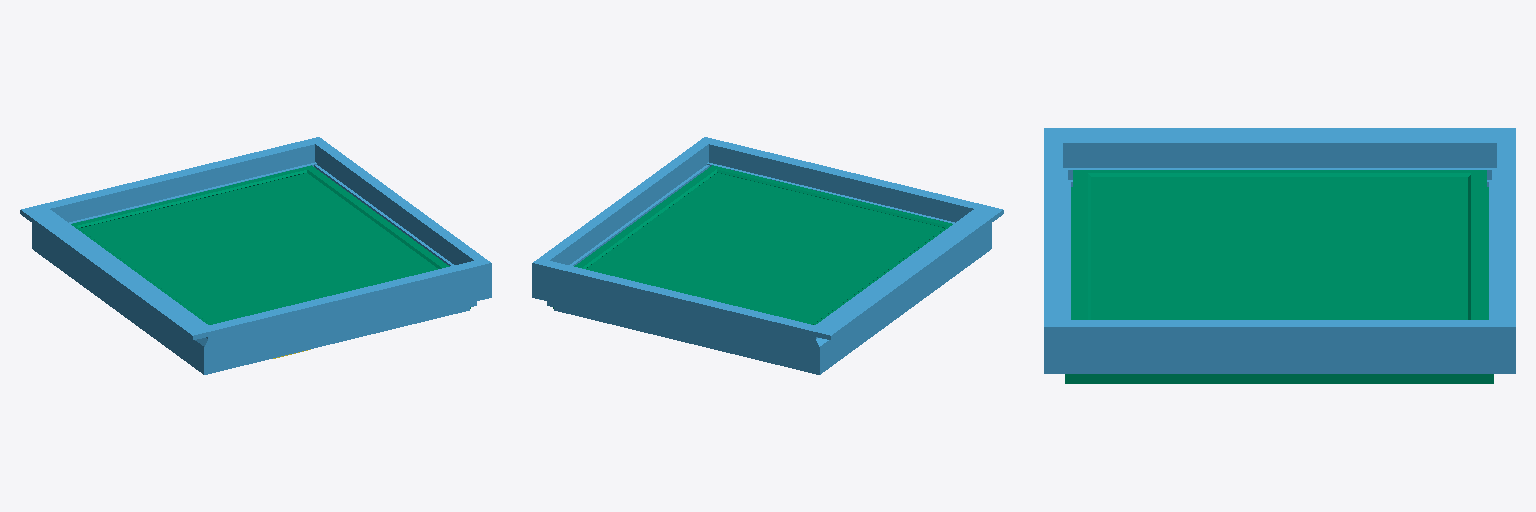
The robot description file, URDF, robot "window":
<?xml version="1.0" ?>
<robot name="window">
    <mujoco>
        <compiler meshdir="texture_stl" balanceinertia="true" discardvisual="false"/>
    </mujoco>
    <link name="base"/>
    <link name="link_0">
       <visual name="out-frame">
          <origin xyz="0 0 0"/>
          <geometry>
             <mesh filename="texture_stl/frame.stl" scale="0.5 0.5 0.5"/>
          </geometry>
       </visual>
       <collision>
          <origin xyz="0 0 0"/>
          <geometry>
             <mesh filename="texture_stl/frame.stl" scale="0.5 0.5 0.5"/>
          </geometry>
       </collision>
    </link>
    <joint name="joint_0" type="fixed">
       <origin rpy="1.570796326794897 0 -1.570796326794897" xyz="0 0 0"/>
       <child link="link_0"/>
       <parent link="base"/>
    </joint>
    <link name="link_1">
       <visual name="surf-board">
          <origin xyz="0.4266382184276609 -0.3915905962527546 0"/>
          <geometry>
             <mesh filename="texture_stl/board.stl" scale="0.5 0.5 0.5"/>
          </geometry>
       </visual>
       <collision>
          <origin xyz="0.4266382184276609 -0.3915905962527546 0"/>
          <geometry>
             <mesh filename="texture_stl/board.stl" scale="0.5 0.5 0.5"/>
          </geometry>
       </collision>
    </link>
    <joint name="joint_1" type="revolute">
       <origin xyz="-0.4266382184276609 0.3915905962527546 0"/>
       <axis xyz="0 -1 0"/>
       <child link="link_1"/>
       <parent link="link_0"/>
       <limit lower="0" upper="1.5079644737231006"/>
    </joint>
    <link name="link_2">
       <visual name="handle">
          <origin xyz="0 0 0"/>
          <geometry>
             <mesh filename="texture_stl/9969523.stl" scale="1.7123141347874917 1.7123141347874917 1.7123141347874917"/>
          </geometry>
       </visual>
       <collision>
          <origin xyz="0 0 0"/>
          <geometry>
             <mesh filename="texture_stl/9969523.stl" scale="1.7123141347874917 1.7123141347874917 1.7123141347874917"/>
          </geometry>
       </collision>
    </link>
    <joint name="joint_2" type="revolute">
       <origin xyz="0.8231999820702591 -0.3915905962527546 0.052945051072655125"/>
       <child link="link_2"/>
       <parent link="link_1"/>
       <axis xyz="0 0 1"/>
       <limit lower="0" upper="1.5079644737231006"/>
    </joint>
</robot>

--- Facts derived from the render (not from the file) ---
3 views of the same robot in one strip: view 1: azimuth 30°, elevation 25°; view 2: azimuth 150°, elevation 25°; view 3: azimuth 270°, elevation 25° (orthographic).
Robot: window — 4 links, 3 joints (2 revolute, 1 fixed); root link base; default pose: all joints at 0.
Visible links, largest first — view 1: link_0, link_1; view 2: link_0, link_1; view 3: link_1, link_0.
Link boxes in pixels (left/top/right/bottom): link_0: left=20, top=137, right=491, bottom=374; link_1: left=71, top=165, right=470, bottom=324; link_0: left=532, top=137, right=1003, bottom=374; link_1: left=553, top=165, right=952, bottom=324; link_1: left=1065, top=170, right=1493, bottom=383; link_0: left=1044, top=128, right=1515, bottom=373.
Size in the robot's own frame: 0.936 by 0.936 by 0.1591 metres.
3 mesh visuals loaded from 3 distinct referenced files (3 binary STL).